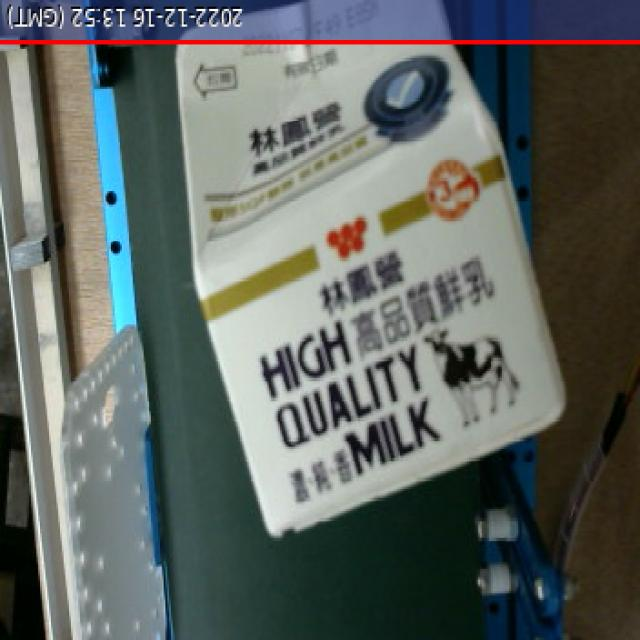non_white_jug: (168, 7, 564, 535)
